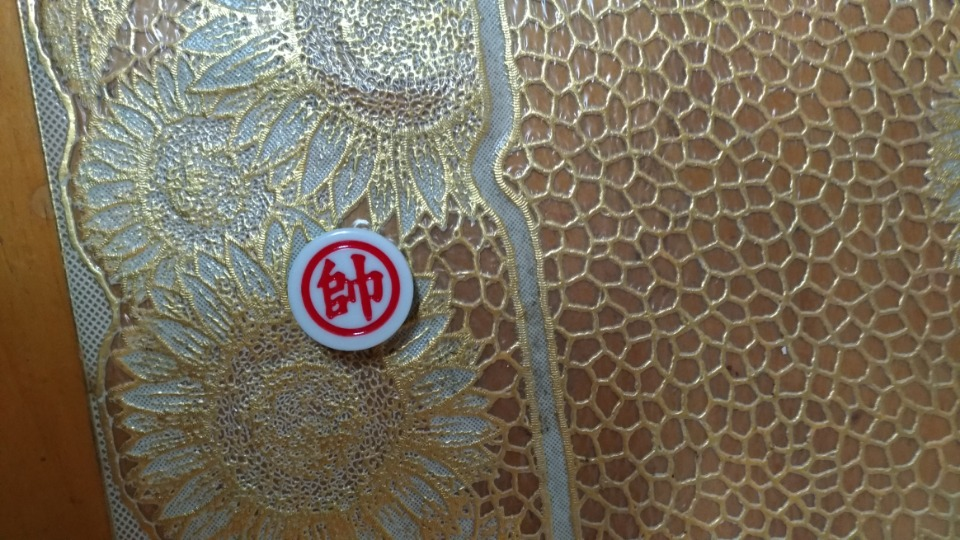r-king: (285, 224, 425, 355)
